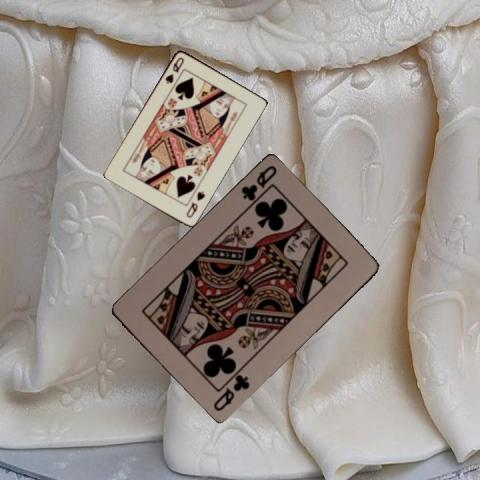Qc: (210, 372, 251, 413), (238, 162, 279, 202)
Qs: (162, 54, 185, 85), (183, 188, 206, 219)
